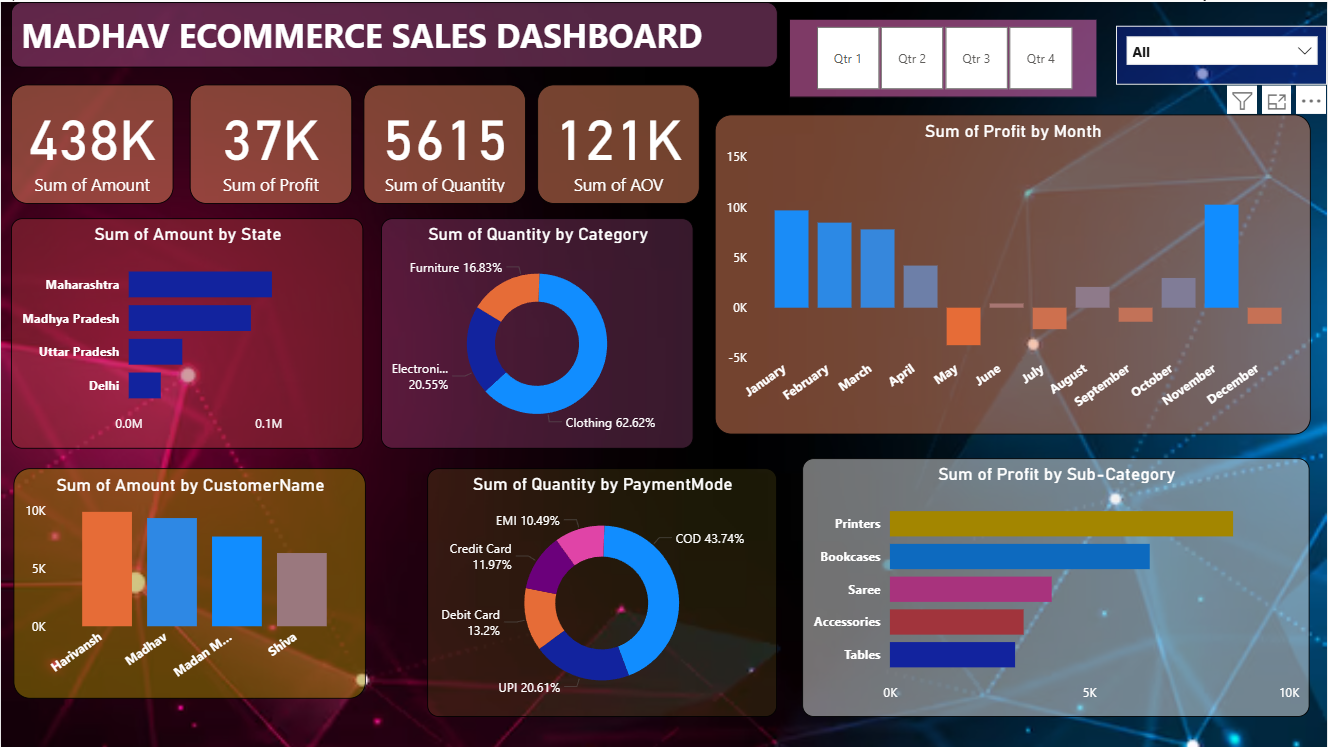

What the dashboard file says about the page in this screenshot:
{"tool":"powerbi","page":{"name":"Page 1","canvas":[1280,720],"ordinal":0},"visuals":[{"type":"textbox","box":[9.6,0,739.6,63.1],"z":0},{"type":"columnChart","fields":{"Y":["Details.Profit"],"Category":["Orders.Order Date.Variation.Date Hierarchy.Month"]},"box":[688.9,108.4,575,308.7],"z":1000},{"type":"barChart","fields":{"Y":["Details.Profit"],"Category":["Details.Sub-Category"]},"box":[773.9,440.5,489.9,249.7],"z":2000},{"type":"donutChart","fields":{"Category":["Details.Category"],"Y":["Details.Quantity"]},"box":[366.4,208.6,301.9,222.3],"z":3000},{"type":"donutChart","fields":{"Category":["Details.PaymentMode","Details.Category"],"Y":["Details.Quantity"]},"box":[411.7,450.1,337.6,240.1],"z":4000},{"type":"card","fields":{"Values":["Details.Amount"]},"box":[9.6,79.6,156.4,115.3],"z":5000},{"type":"card","fields":{"Values":["Details.Profit"]},"box":[182.5,79.6,156.4,115.3],"z":6000},{"type":"card","fields":{"Values":["Details.Quantity"]},"box":[349.9,79.6,156.4,115.3],"z":7000},{"type":"card","fields":{"Values":["Details.AOV"]},"box":[517.3,79.6,156.4,115.3],"z":8000},{"type":"barChart","fields":{"Category":["Orders.State"],"Y":["Details.Amount"]},"box":[9.6,208.6,340.3,222.3],"z":9000},{"type":"columnChart","fields":{"Category":["Orders.CustomerName"],"Y":["Details.Amount"]},"box":[12.3,450.1,340.3,222.3],"z":10000},{"type":"slicer","fields":{"Values":["Orders.Order Date.Variation.Date Hierarchy.Quarter"]},"box":[761.6,16.5,296.4,74.1],"z":11000},{"type":"slicer","fields":{"Values":["Orders.State"]},"box":[1075.8,23.3,204.5,56.3],"z":12000}]}

Visuals, with their boxes in screenshot pixels (x1, y1, x2, y2), scaled from the page's 1280x720 canvas onto the 1328x747 screenshot:
textbox: (10, 0, 777, 65)
columnChart - Details.Profit x Orders.Order Date.Variation.Date Hierarchy.Month: (715, 112, 1311, 433)
barChart - Details.Profit x Details.Sub-Category: (803, 457, 1311, 716)
donutChart - Details.Category x Details.Quantity: (380, 216, 693, 447)
donutChart - Details.PaymentMode x Details.Category: (427, 467, 777, 716)
card - Details.Amount: (10, 83, 172, 202)
card - Details.Profit: (189, 83, 352, 202)
card - Details.Quantity: (363, 83, 525, 202)
card - Details.AOV: (537, 83, 699, 202)
barChart - Orders.State x Details.Amount: (10, 216, 363, 447)
columnChart - Orders.CustomerName x Details.Amount: (13, 467, 366, 698)
slicer - Orders.Order Date.Variation.Date Hierarchy.Quarter: (790, 17, 1098, 94)
slicer - Orders.State: (1116, 24, 1327, 83)
